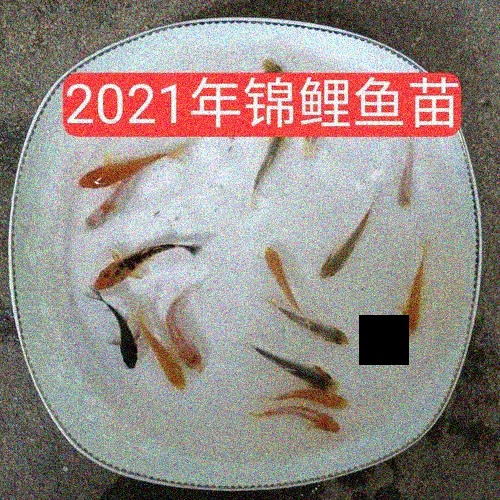fry: (307, 187, 380, 286), (78, 244, 199, 293), (270, 298, 369, 352), (162, 285, 222, 372), (87, 298, 148, 382), (397, 238, 439, 347), (255, 344, 350, 392), (67, 146, 155, 193), (251, 403, 351, 439), (143, 327, 188, 403), (239, 136, 295, 195), (269, 382, 358, 413), (389, 144, 430, 209), (259, 247, 303, 307), (69, 198, 128, 231), (248, 53, 292, 79), (299, 136, 325, 157)
